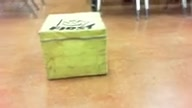cube: (38, 12, 107, 80)
